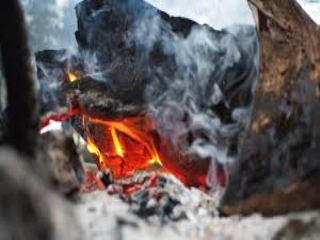fire: (92, 122, 165, 171), (64, 71, 82, 85)
smoke: (139, 21, 254, 160)
